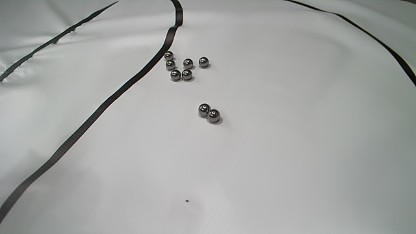ironball: (198, 103, 210, 117), (208, 109, 220, 122), (170, 69, 181, 80), (183, 58, 193, 69), (182, 69, 192, 80), (198, 57, 209, 67), (165, 60, 175, 70), (164, 51, 173, 60)
